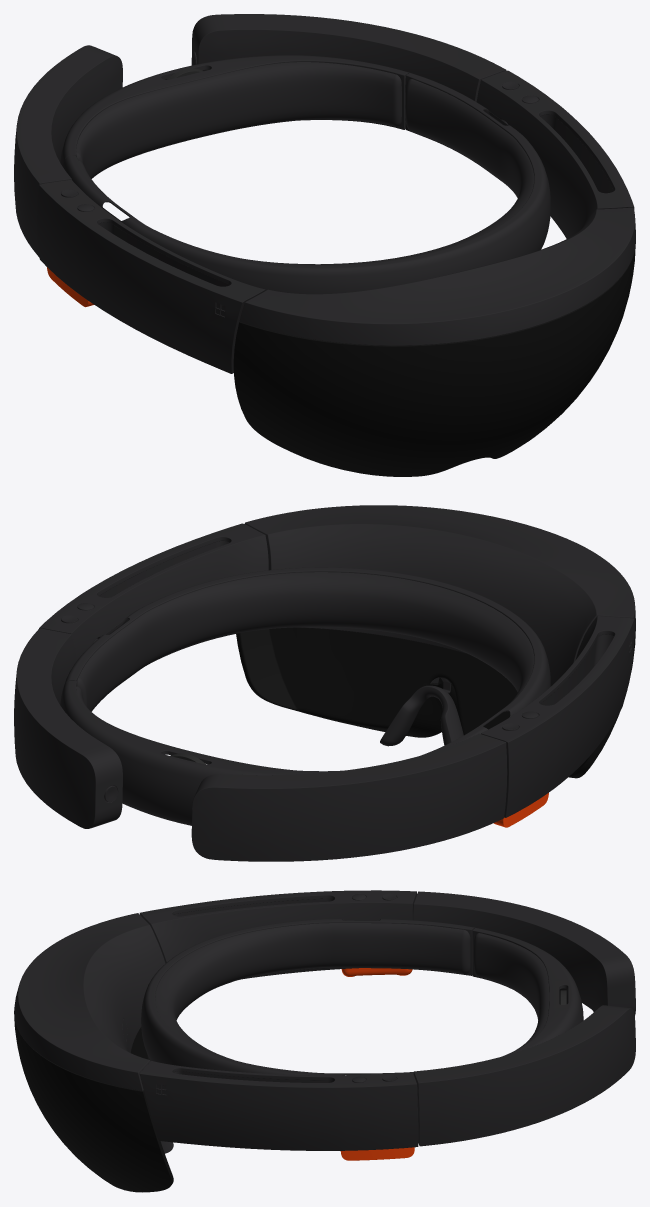
The model's file is holo_lens.glb.
The picture shows the model from 3 angles, top to bottom: view 1: azimuth 30°, elevation 25°; view 2: azimuth 150°, elevation 25°; view 3: azimuth 270°, elevation 25°; orthographic projection. The views are drawn at different scales.
Parts seen in each view (by area): view 1: node_id33, node_id31; view 2: node_id33, node_id31; view 3: node_id33, node_id31.
Boxes of the visible parts, x1,y1,x2,y2 form: node_id33: (14, 14, 635, 373); node_id31: (233, 246, 635, 476); node_id33: (14, 505, 635, 861); node_id31: (236, 627, 635, 778); node_id33: (14, 890, 635, 1160); node_id31: (14, 1018, 173, 1192).
Bounding box in the file's own units: 0.512 × 0.2094 × 0.6804.
3 materials, 3 textured.
